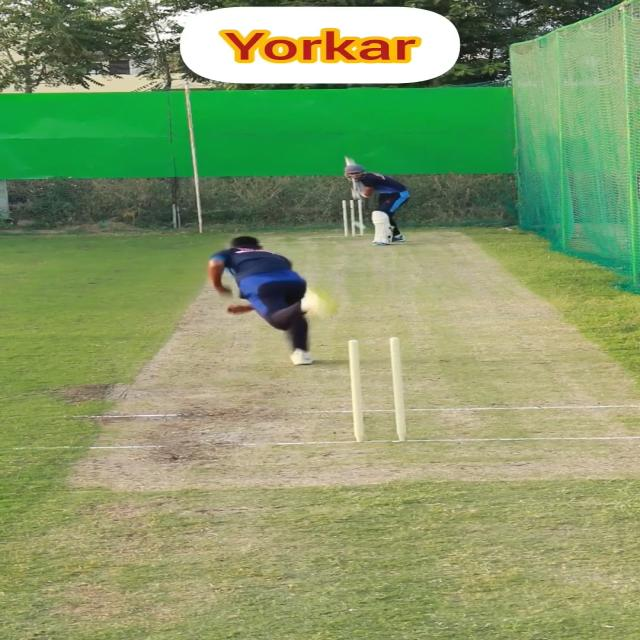stump: (346, 336, 409, 442), (342, 199, 365, 237)
